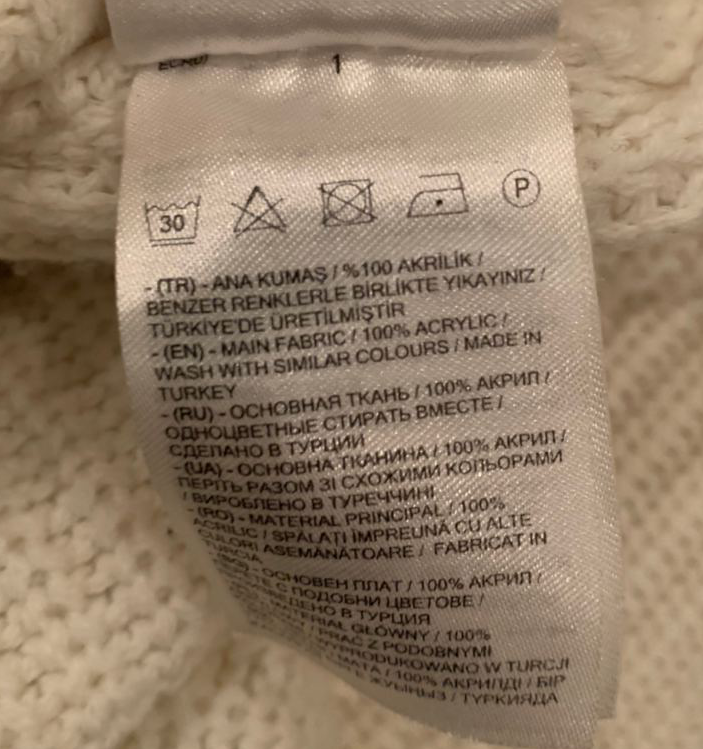do_not_bleach: (231, 181, 289, 238)
do_not_tumble_drying: (319, 172, 381, 229)
dry_clean_tetrachloroethylene_pce_only: (499, 163, 543, 210)
ironing_at_low_temp: (403, 165, 471, 226)
wash_at_or_below_30_mild_fine_wash: (141, 189, 206, 253)
